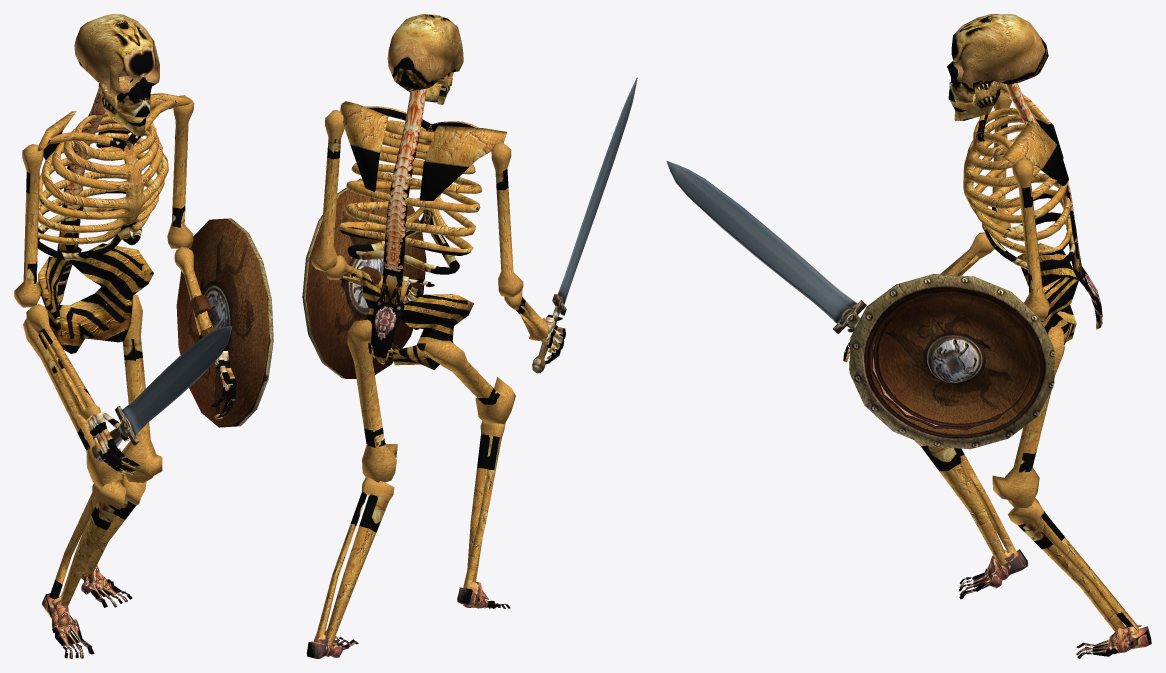
The model's file is Skeleton_000015.obj.
3 views of the same model, side by side, from view 1: azimuth 30°, elevation 25°; view 2: azimuth 150°, elevation 25°; view 3: azimuth 270°, elevation 25° (orthographic). The views are drawn at different scales.
Parts seen in each view (by area): view 1: Costillar, Shield_Shield.001, Coxis, Skull, Femur, Humero, Tibia, Sword, Radio, Feet, Hands, Omoplato (+1 smaller); view 2: Costillar, Shield_Shield.001, Tibia, Femur, Omoplato, Humero, Skull, Coxis, Sword, Radio, Feet, Hands (+1 smaller); view 3: Shield_Shield.001, Costillar, Tibia, Sword, Skull, Humero, Femur, Feet, Omoplato, Coxis, Mandibula, Radio.
Part boxes in pixels (x1,y1,x2,y2): Costillar: (37, 86, 176, 304); Shield_Shield.001: (176, 218, 273, 427); Coxis: (38, 243, 153, 353); Skull: (74, 14, 159, 117); Femur: (23, 294, 162, 488); Humero: (14, 95, 194, 307); Tibia: (49, 474, 146, 606); Sword: (92, 326, 232, 461); Radio: (26, 246, 212, 420); Feet: (42, 564, 132, 658); Hands: (87, 351, 236, 474); Omoplato: (37, 93, 192, 164); Costillar: (339, 88, 482, 364); Shield_Shield.001: (302, 178, 426, 378); Tibia: (315, 421, 505, 646); Femur: (347, 319, 515, 482); Omoplato: (340, 101, 506, 200); Humero: (311, 110, 523, 297); Skull: (387, 14, 463, 91); Coxis: (362, 271, 473, 370); Sword: (532, 77, 637, 373); Radio: (325, 255, 549, 340); Feet: (306, 582, 510, 658); Hands: (402, 276, 565, 364); Shield_Shield.001: (849, 274, 1054, 449); Costillar: (963, 83, 1102, 329); Tibia: (914, 440, 1138, 631); Sword: (666, 161, 866, 334); Skull: (947, 14, 1048, 103); Humero: (992, 93, 1050, 320); Femur: (992, 326, 1064, 507); Feet: (959, 549, 1151, 658); Omoplato: (999, 83, 1068, 186); Coxis: (1017, 243, 1078, 344); Mandibula: (950, 81, 999, 120); Radio: (940, 232, 994, 275).
Size of the model in its own units: 2.84 by 8.42 by 5.99.
5 materials, 5 textured.
